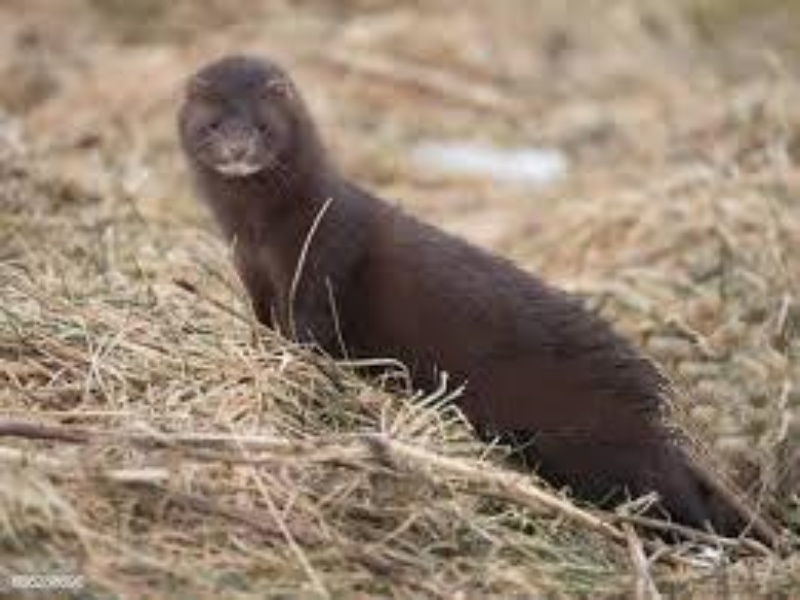minkish: (176, 52, 753, 551)
